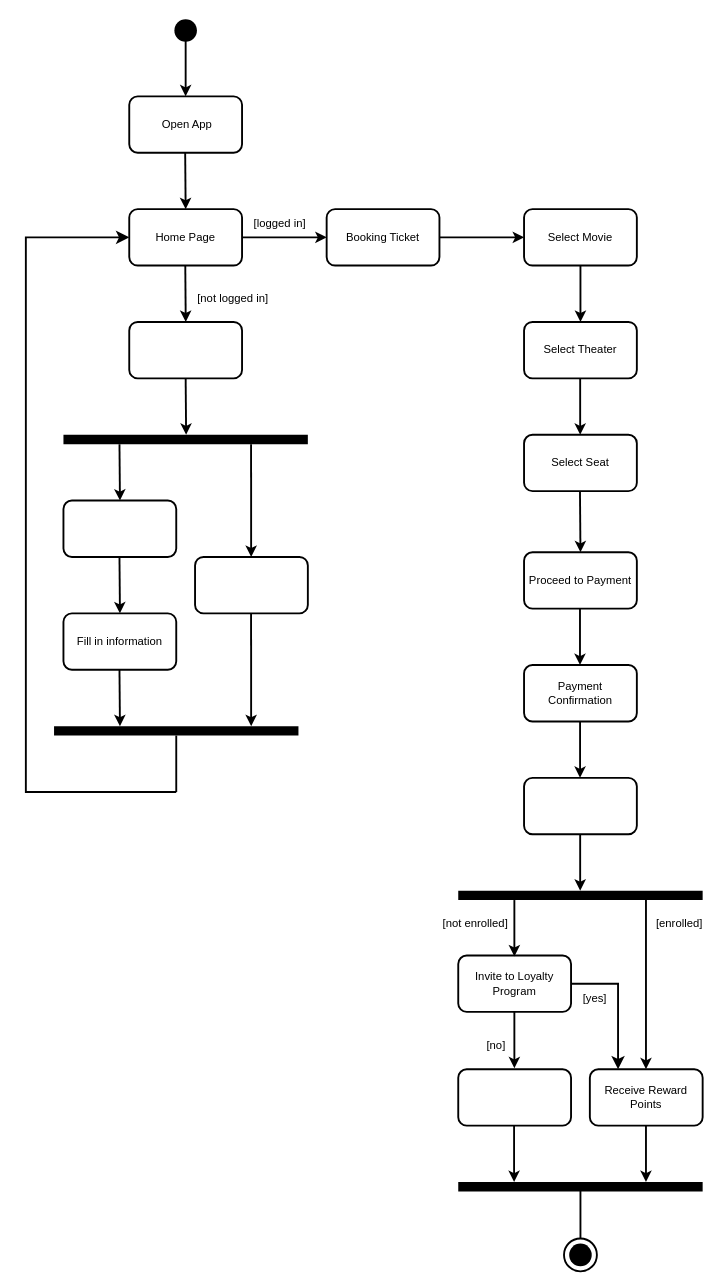
The diagram is 728 pixels wide and 1288 high, and some of its shapes have lost their labels. Here are the shapes that lost their labels. From the top down, the box of each, then its label:
(128, 321, 243, 379): Login Page
(62, 499, 177, 557): Signup Page
(194, 556, 308, 614): Login with Google/Apple/Meta
(523, 776, 637, 835): Loyalty Program
(457, 1068, 572, 1126): No Reward Points
